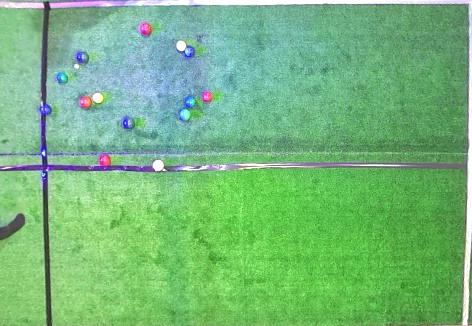blue: (39, 104, 51, 115), (185, 46, 195, 57)
green: (179, 109, 191, 121), (77, 52, 89, 63), (123, 118, 135, 129), (57, 73, 68, 83), (185, 97, 195, 107)
red: (152, 159, 165, 172), (140, 23, 152, 36), (99, 155, 112, 167), (79, 97, 92, 108), (202, 91, 212, 102)
vline: (1, 112, 54, 325), (1, 1, 50, 104), (458, 1, 471, 325)
white: (74, 64, 79, 69)
yellow: (175, 40, 186, 51), (93, 93, 103, 103)
